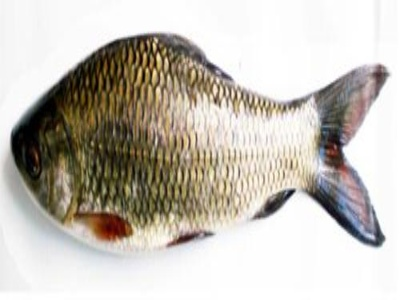rohu: (9, 26, 392, 264)
